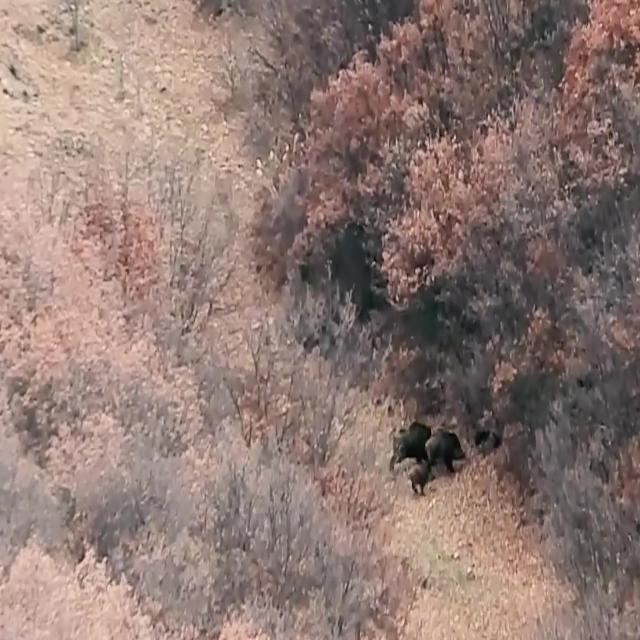pig: (426, 426, 467, 488), (386, 411, 425, 464), (402, 462, 440, 506)
